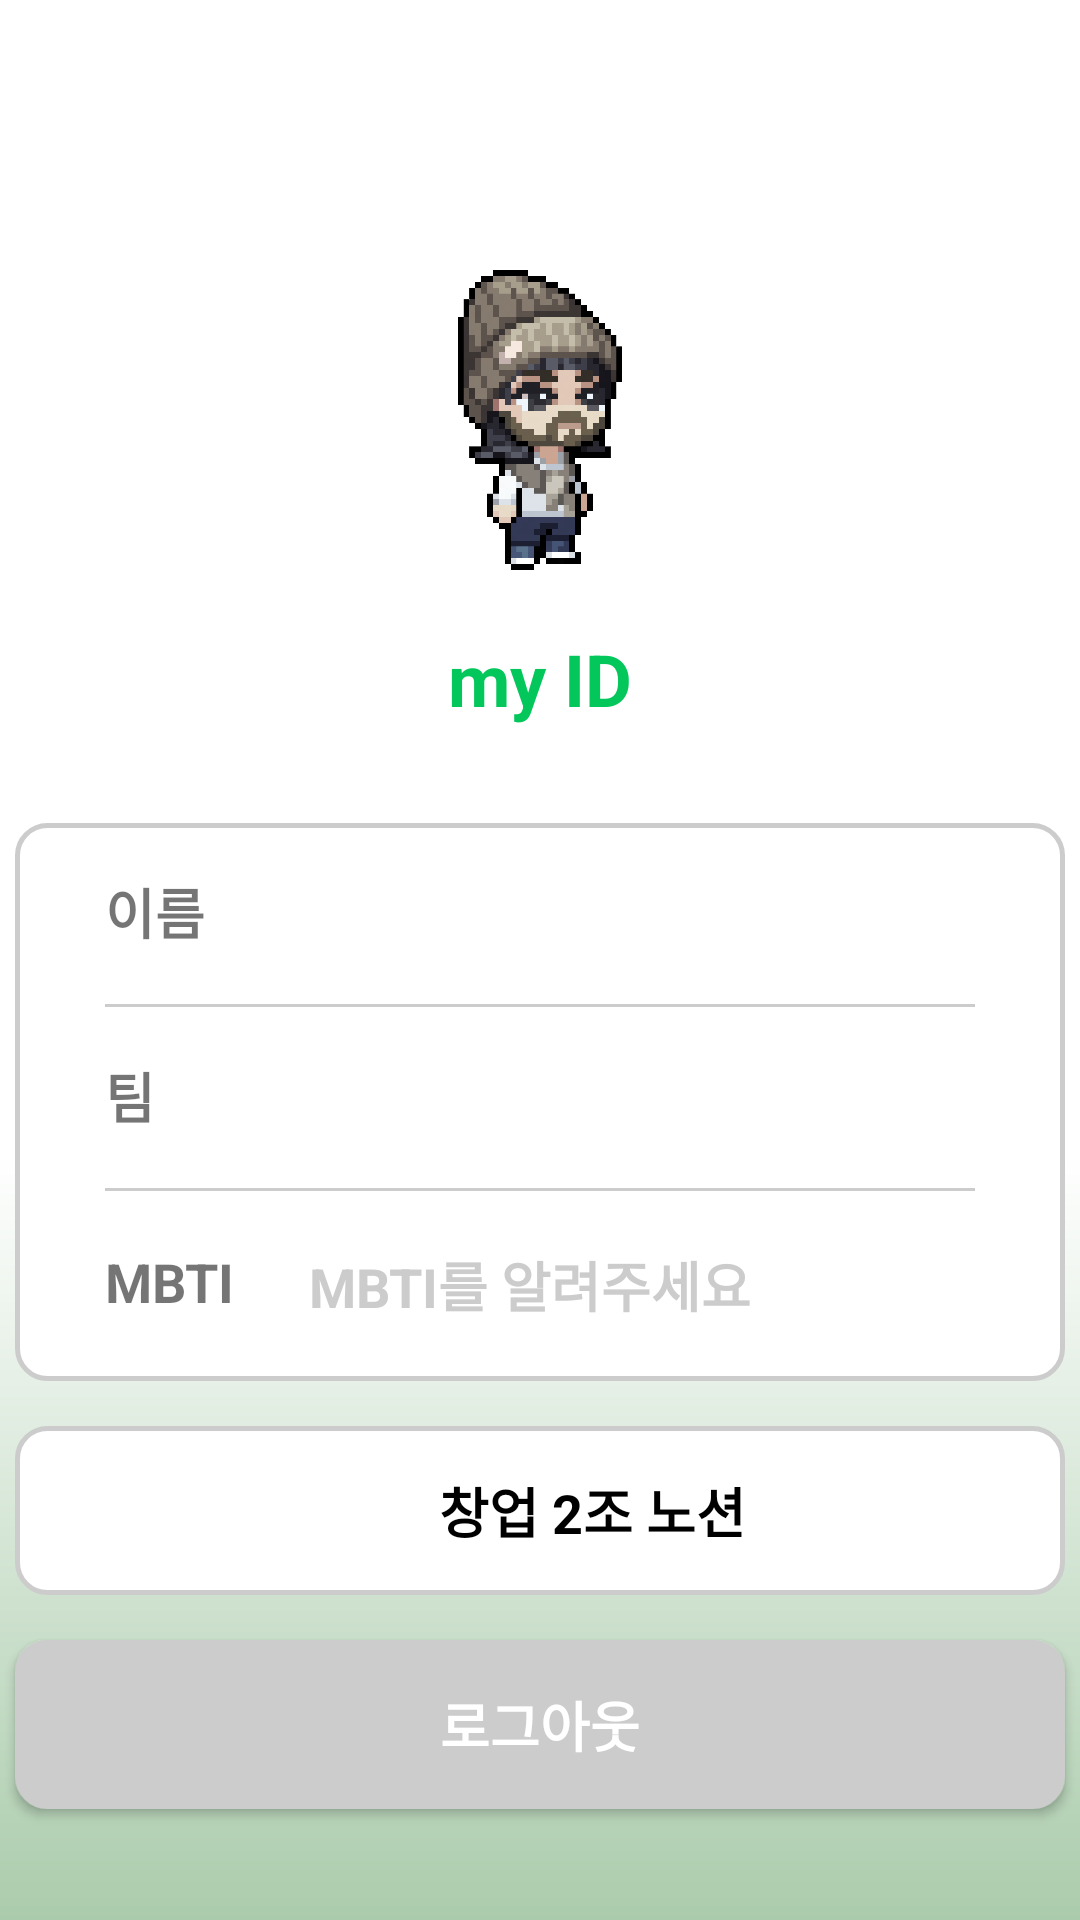

Icon click points for this 1080px×1920px phone screenshot, format (x,y):
character: (540,420)
